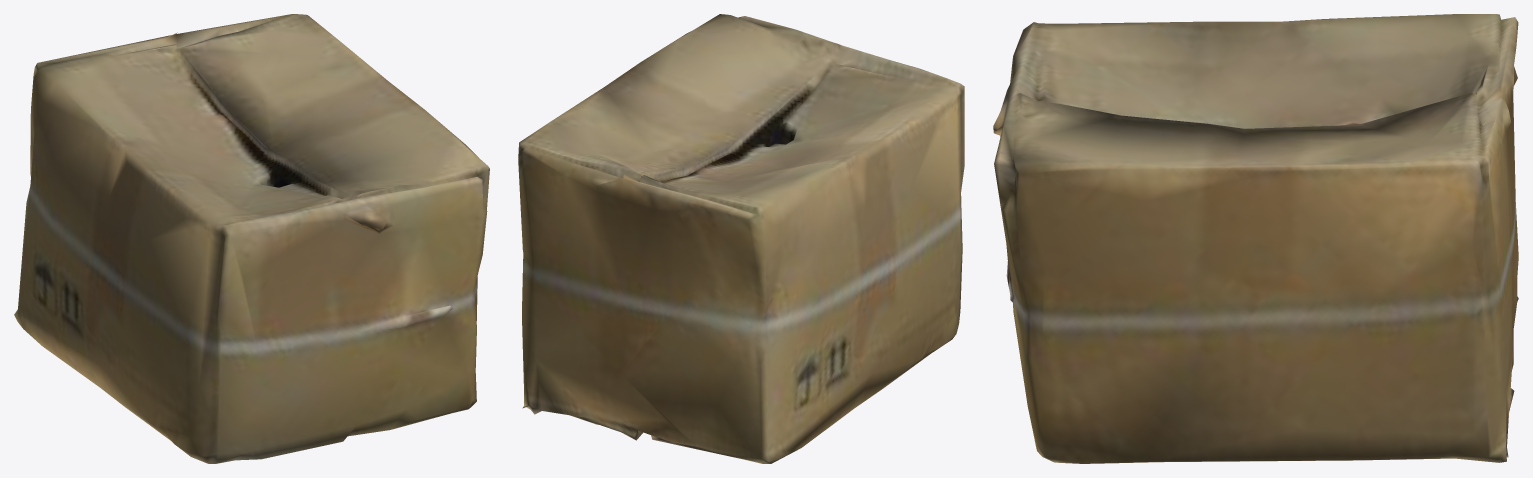
The model's file is cardboard_box_01.glb.
The picture shows the model from 3 angles, left to right: view 1: azimuth 30°, elevation 25°; view 2: azimuth 150°, elevation 25°; view 3: azimuth 270°, elevation 25°; orthographic projection. The views are drawn at different scales.
Visible parts, largest first — view 1: cardboard_box_01; view 2: cardboard_box_01; view 3: cardboard_box_01.
Part boxes in pixels (<box>): cardboard_box_01: <box>14,14,489,463</box>; cardboard_box_01: <box>518,14,964,463</box>; cardboard_box_01: <box>993,14,1518,463</box>.
Bounding box in the file's own units: 0.3855 × 0.3407 × 0.5159.
Materials: 1 (1 with a texture image).
